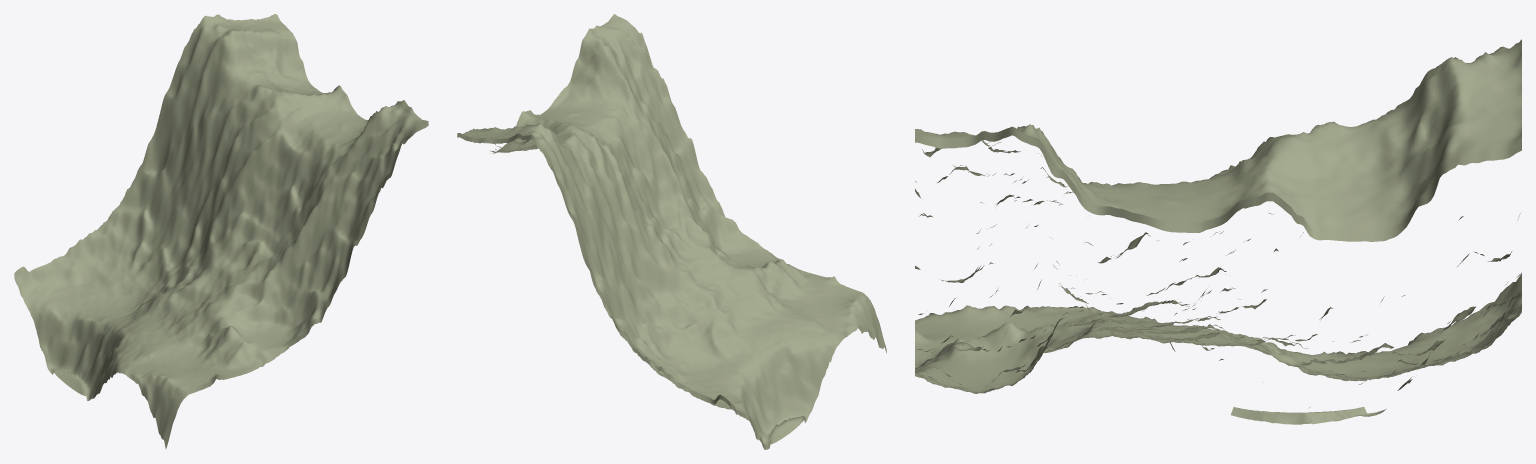
Rendered from terrain_r2_c3_lod0.glb.
The picture shows the model from 3 angles, left to right: view 1: azimuth 30°, elevation 25°; view 2: azimuth 150°, elevation 25°; view 3: azimuth 270°, elevation 25°; orthographic projection. The views are drawn at different scales.
Visible parts, largest first — view 1: terrain_r2_c3; view 2: terrain_r2_c3; view 3: terrain_r2_c3.
Boxes of the visible parts, bbox=[...] form: terrain_r2_c3: bbox=[14, 14, 428, 448]; terrain_r2_c3: bbox=[457, 14, 886, 449]; terrain_r2_c3: bbox=[915, 39, 1521, 424].
Size of the model in its own units: 50 by 51.89 by 50.
